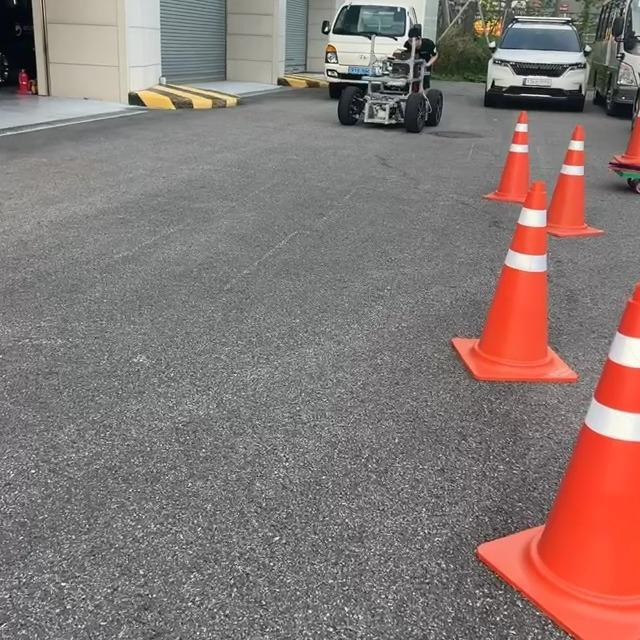fallen_object: (493, 213, 640, 640), (426, 163, 587, 393), (471, 84, 640, 274)
